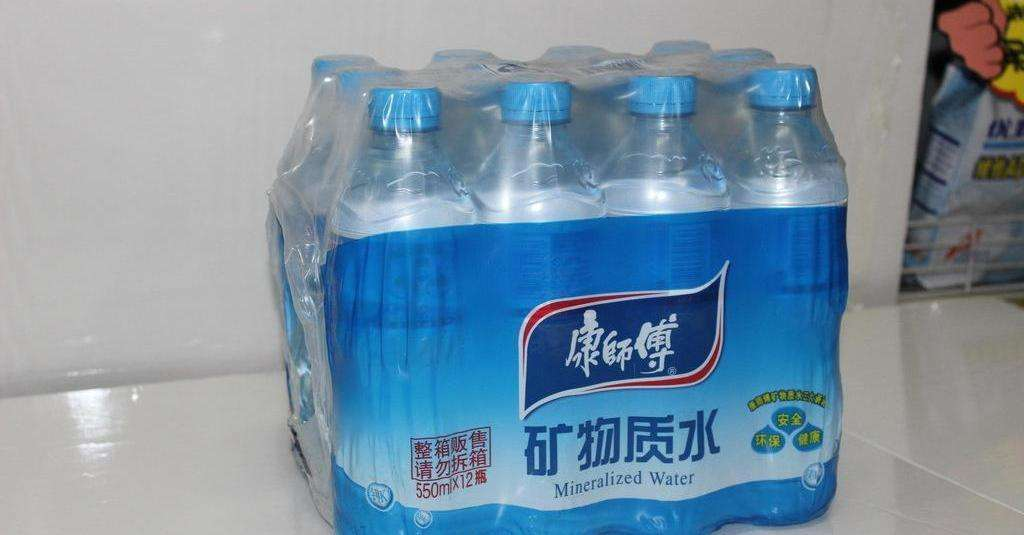amwater: (250, 34, 868, 529)
